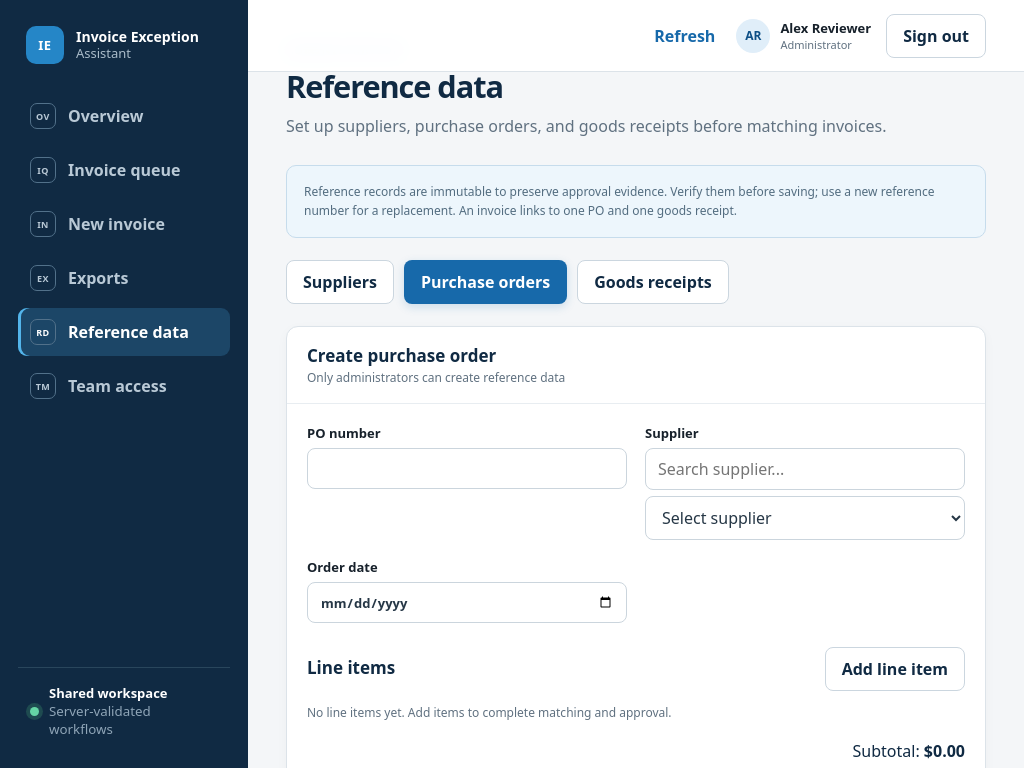
Test: reference data and accounts › creates purchase-orders with line items and correct date fields
(page scrolled)
Type "NEW-100" into the field labelled "PO number" at (467, 469), box 307,448 -> 627,489
Select "Northstar Fasteners (NSF-014)" in the dropdown labelled "Supplier" at (805, 518), box 645,496 -> 965,540
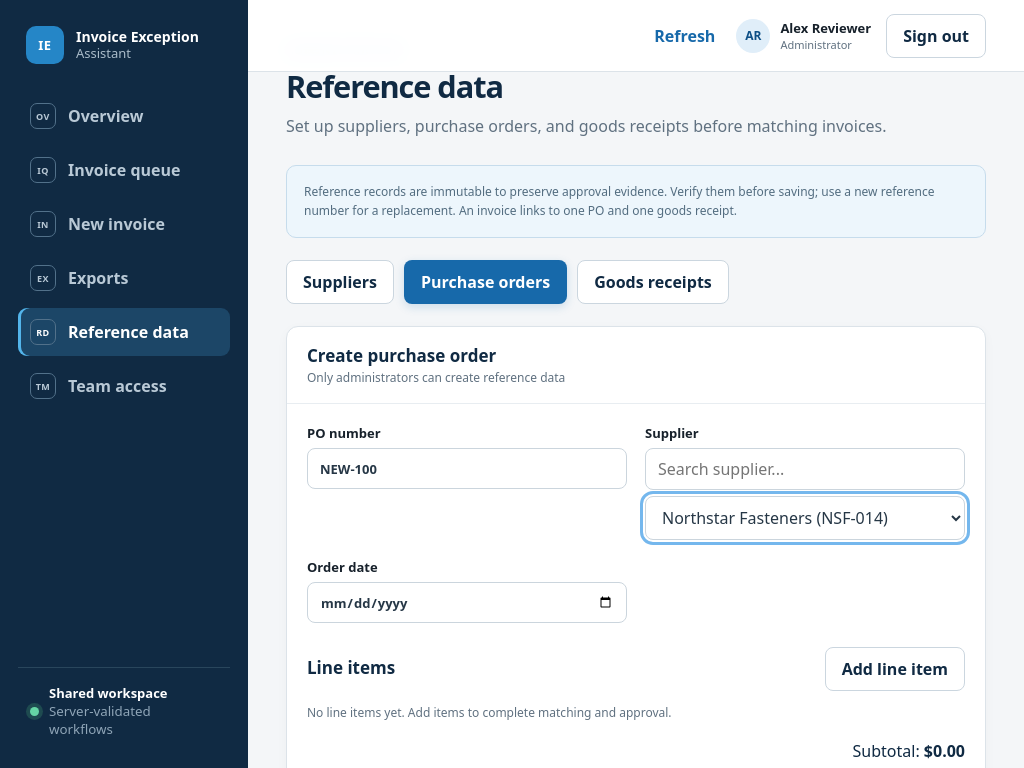
Type "2026-10-01" into the date field labelled "Order date" at (467, 603), box 307,582 -> 627,623
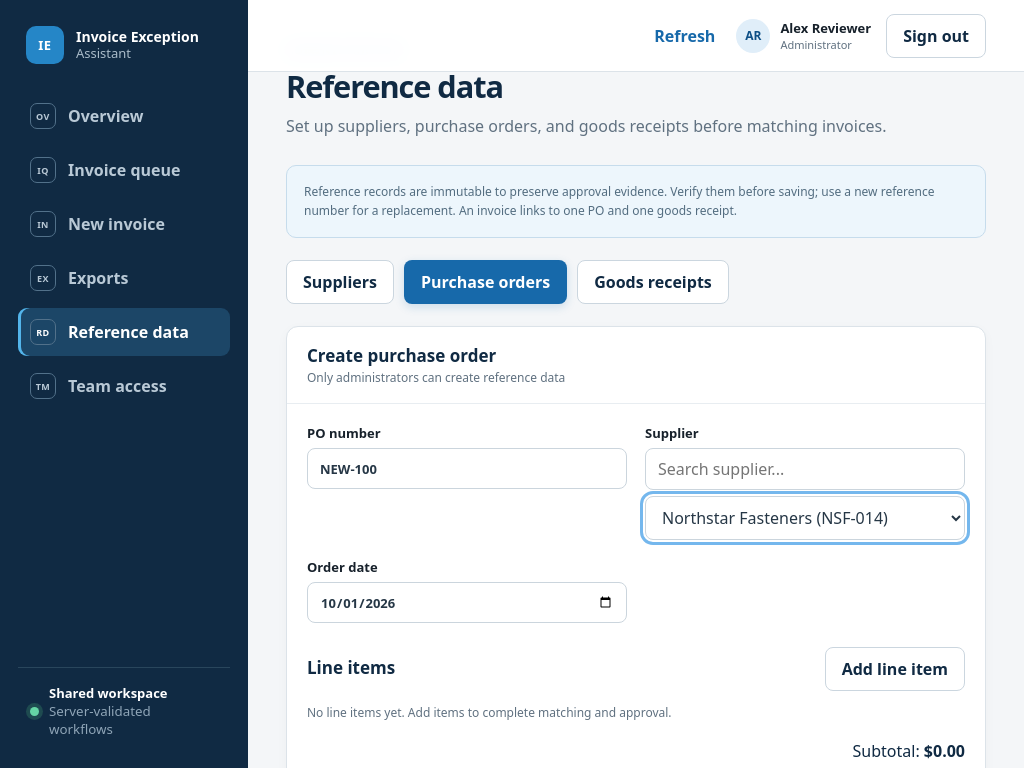
Click the button "Add line item" at (895, 669), box 825,647 -> 965,691
(page scrolled)
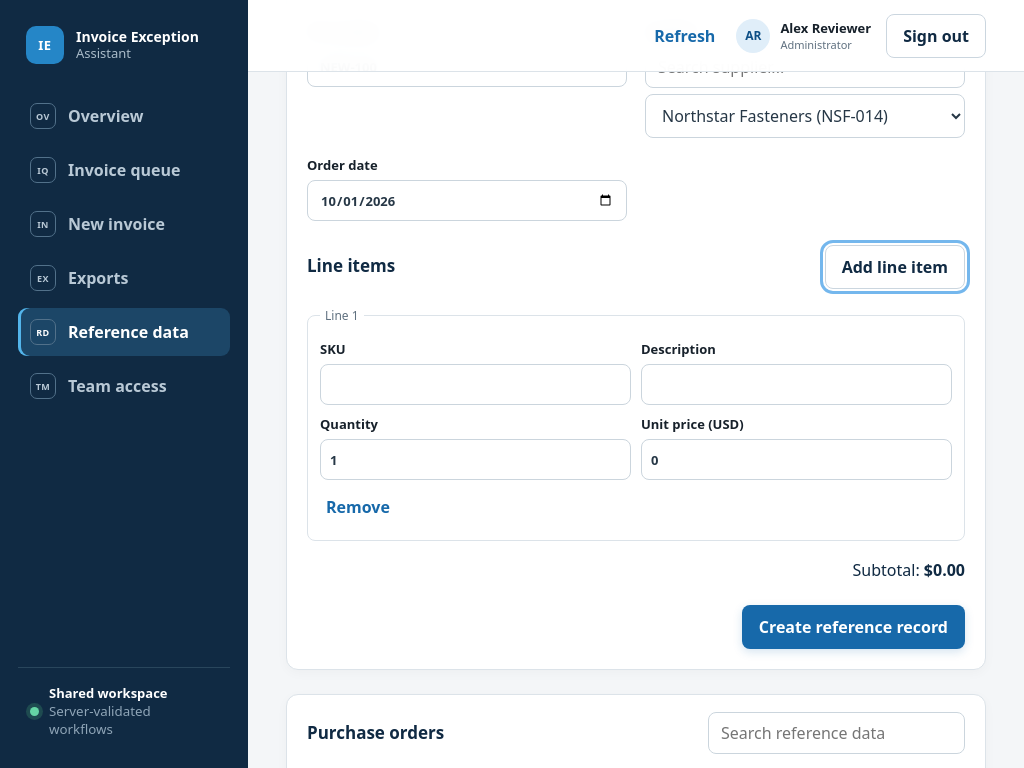
Type "ITEM" into the field named "Line 1 SKU" at (476, 385), box 320,364 -> 631,405
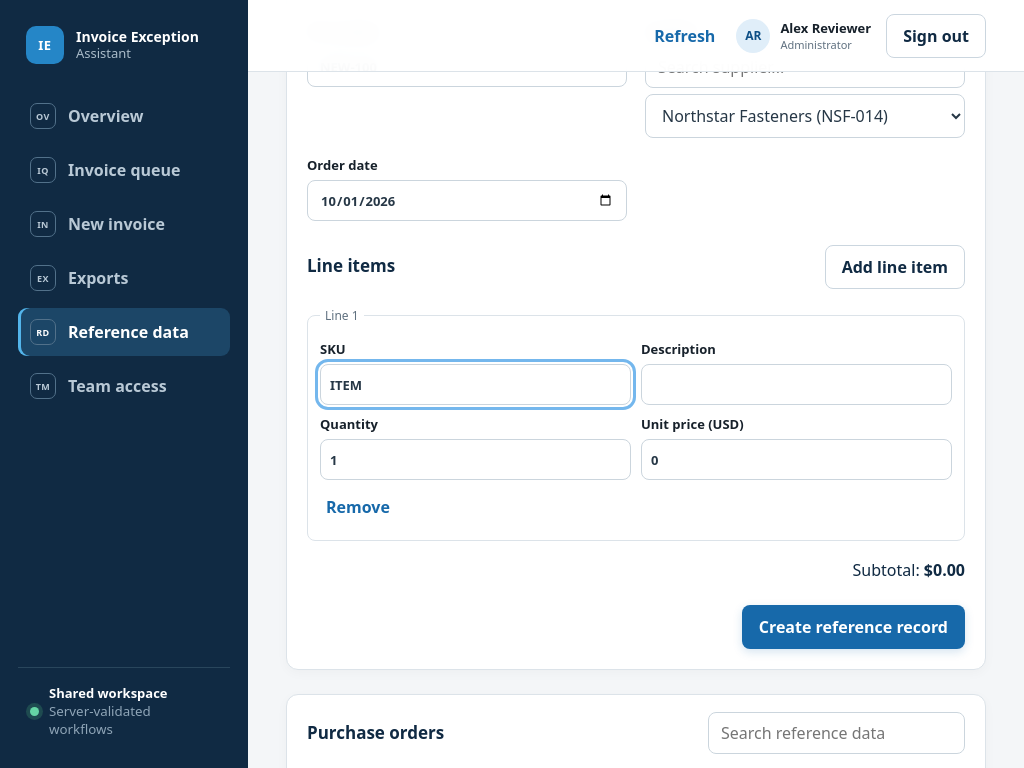
Type "An item" into the field named "Line 1 description" at (796, 385), box 641,364 -> 952,405
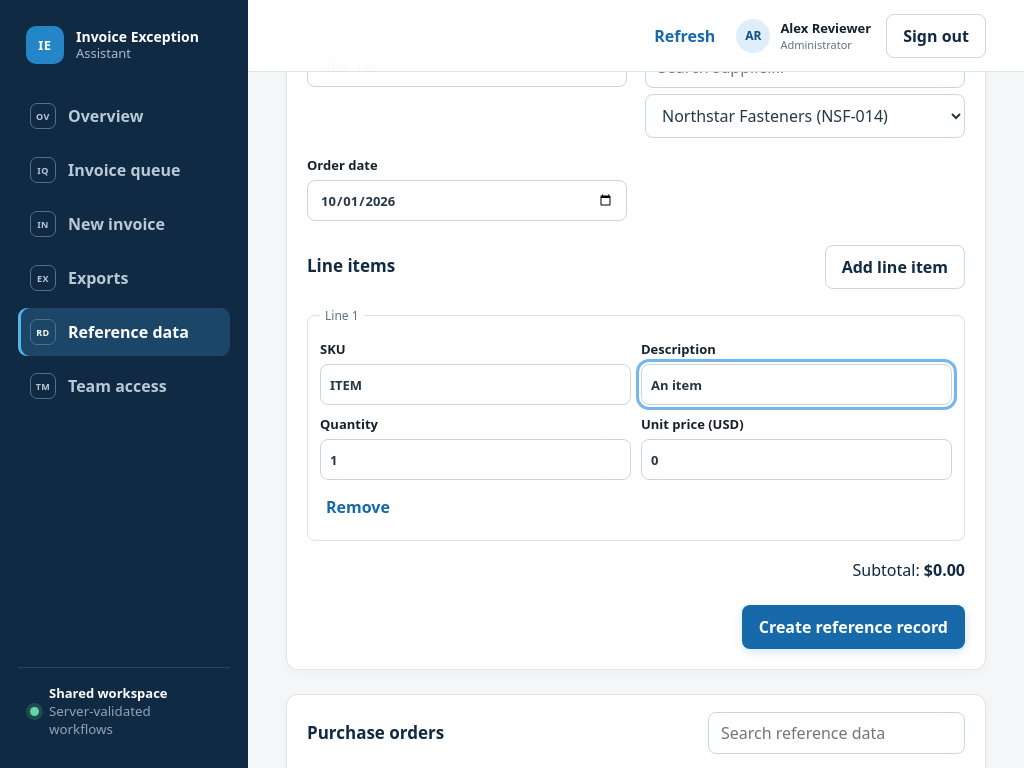
Click the button "Create reference record" at (853, 627), box 742,605 -> 965,649
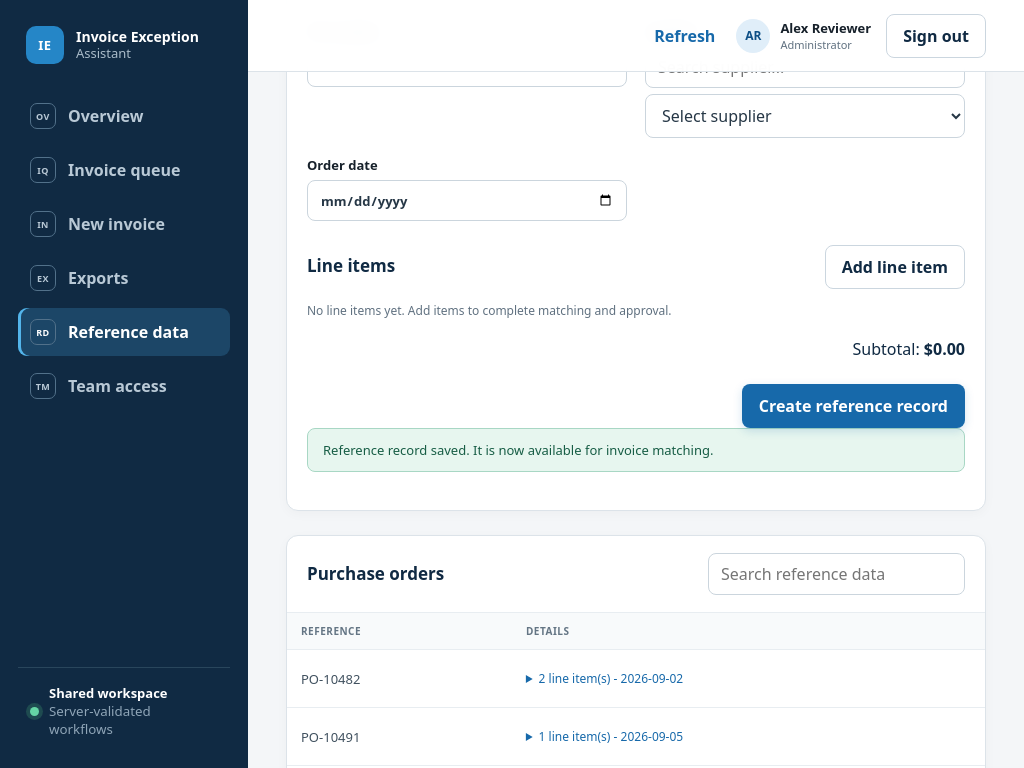
Check: the message shows "Reference record saved", box 323,441 -> 714,459
